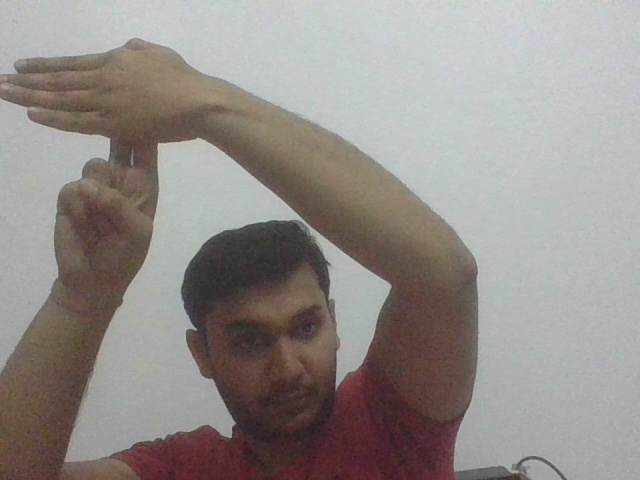N: (1, 36, 196, 170)
